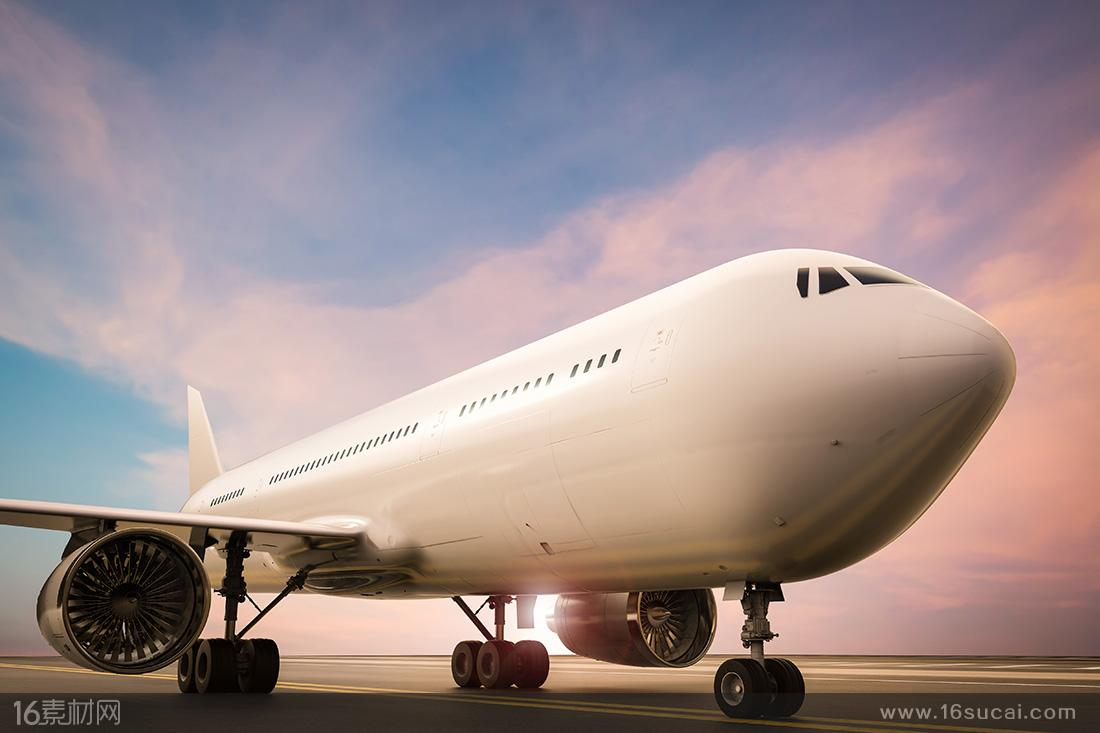airplane: (1, 239, 1029, 705)
